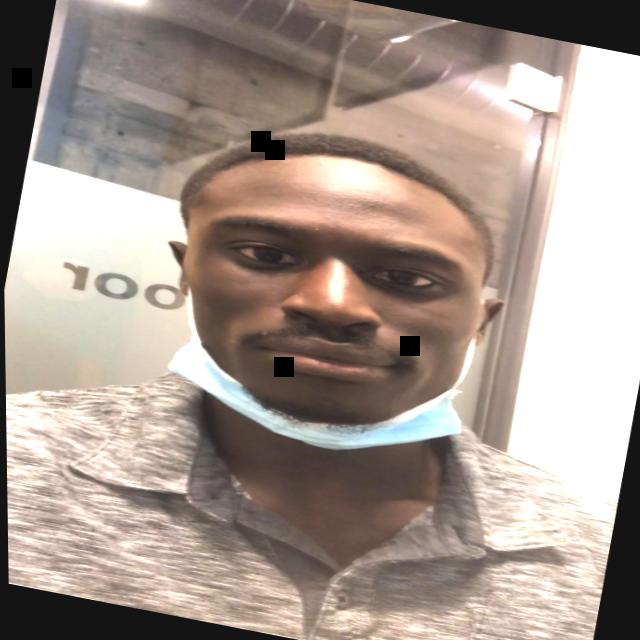NO-Mask: (145, 121, 515, 448)
